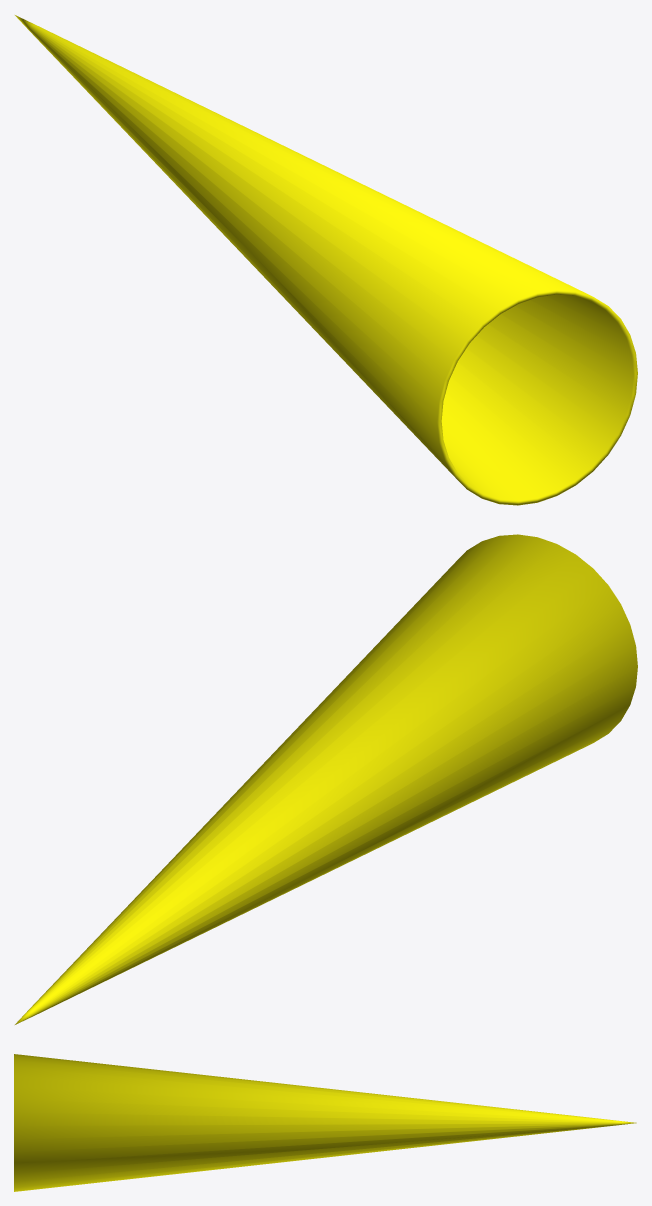
Rendered from lightray 1.fbx.
3 renders of one model, top to bottom at view 1: azimuth 30°, elevation 25°; view 2: azimuth 150°, elevation 25°; view 3: azimuth 270°, elevation 25°, orthographic. The views are drawn at different scales.
Parts seen in each view (by area): view 1: LightRay; view 2: LightRay; view 3: LightRay.
Boxes of the visible parts, box(x1,y1,x2,y2) form: LightRay: box(15, 15, 637, 505); LightRay: box(15, 534, 637, 1024); LightRay: box(14, 1054, 636, 1191).
Bounding box in the file's own units: 200 × 904 × 200.
